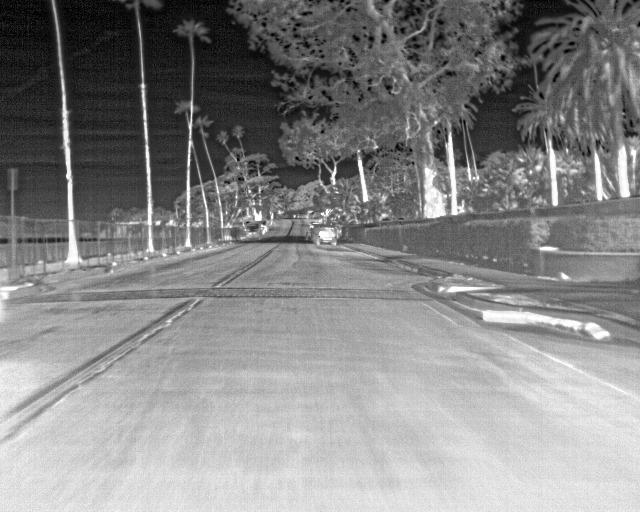car: (309, 223, 338, 247), (243, 222, 263, 239)
